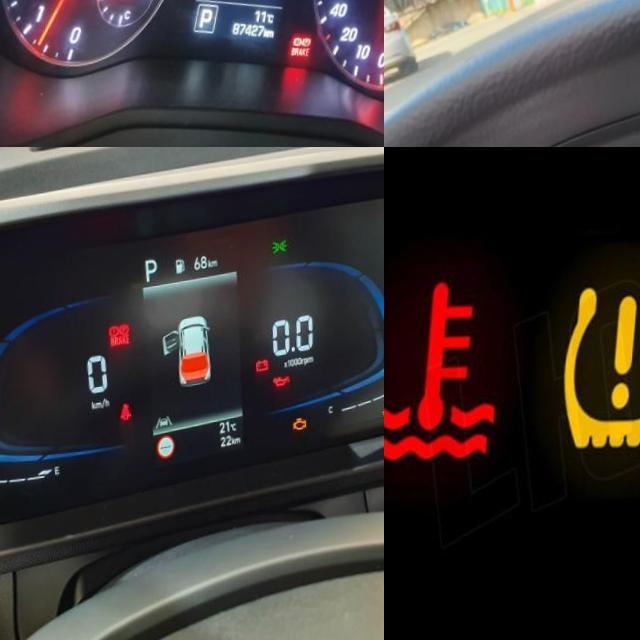Engine cooling system: (384, 274, 507, 467)
LaneCenteringOff: (158, 417, 176, 432)
SideLamp: (273, 243, 289, 258)
